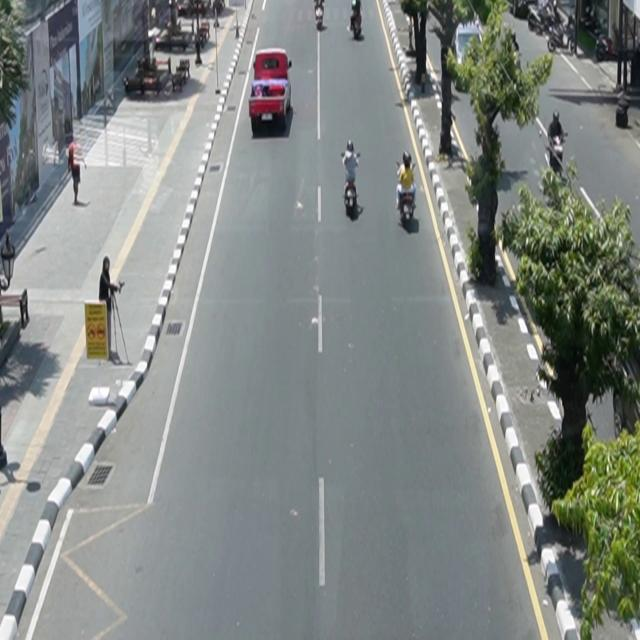car: (250, 48, 294, 134)
